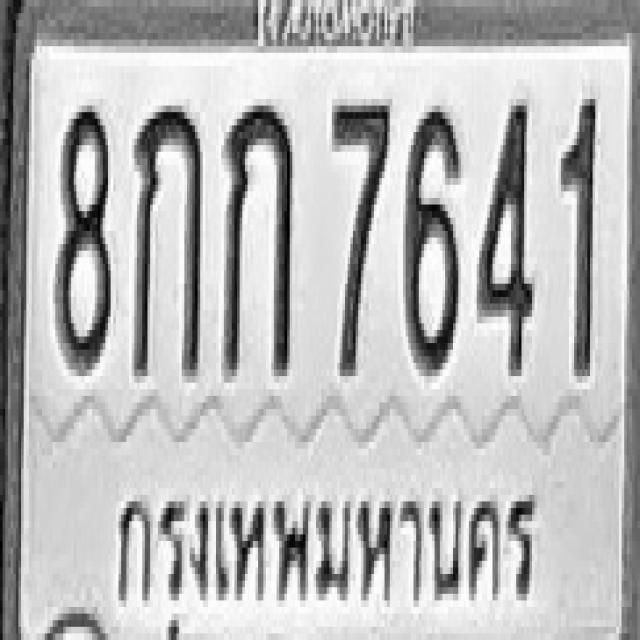1: (560, 92, 596, 376)
10GorGai: (222, 99, 294, 376), (132, 99, 200, 376)
4: (477, 95, 532, 372)
6: (404, 102, 460, 373)
7: (331, 99, 391, 376)
8: (55, 99, 111, 369)
Bangkok: (105, 462, 540, 640)
